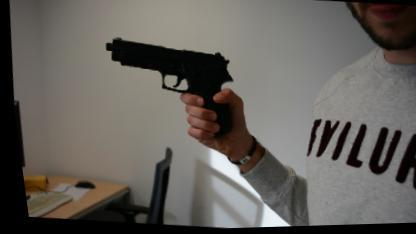pistol: (96, 32, 240, 138)
